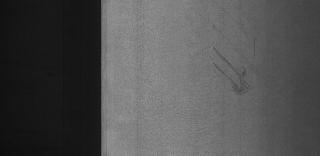water spot: (208, 40, 260, 98)
